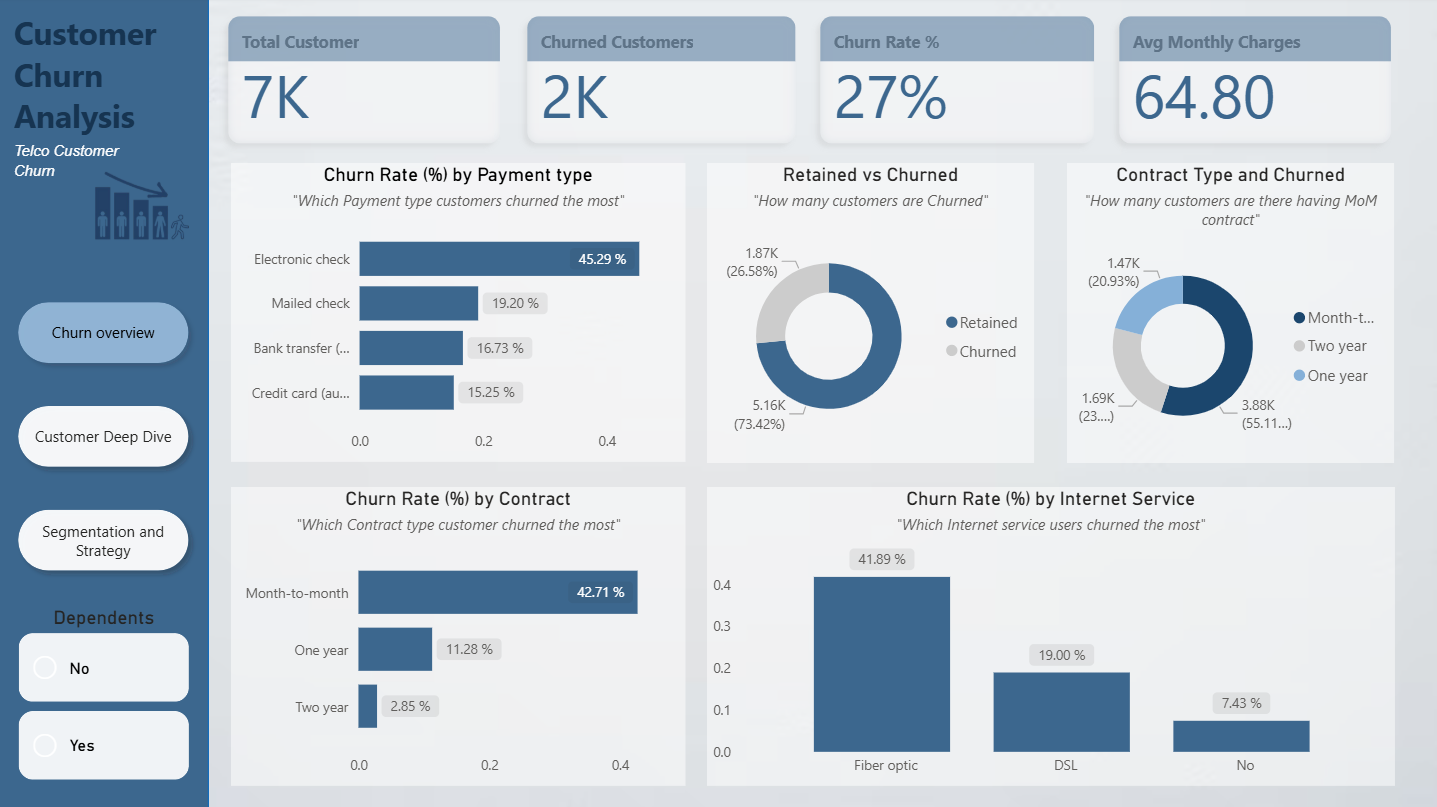

The dashboard page shown, as its layout file describes it:
{"tool":"powerbi","page":{"name":"Churn overview","canvas":[1280,720],"ordinal":0},"visuals":[{"type":"shape","box":[0,0,187,720.1],"z":0,"group":"g1"},{"type":"cardVisual","fields":{"Data":["telco_churn_final.Total Customer"]},"box":[187,0,275.3,147.5],"z":0},{"type":"cardVisual","fields":{"Data":["telco_churn_final.Churned Customers"]},"box":[451.8,0,273,147.5],"z":1000},{"type":"pageNavigator","box":[9.3,261.3,169.6,256.7],"z":1000,"group":"g1"},{"type":"cardVisual","fields":{"Data":["telco_churn_final.Churn Rate %"]},"box":[712,0,277.6,147.5],"z":2000},{"type":"cardVisual","fields":{"Data":["telco_churn_final.Avg Monthly Charges"]},"box":[976.8,0,275.3,147.5],"z":3000},{"type":"clusteredBarChart","title":"Churn Rate (%)  by Contract","fields":{"Category":["telco_churn_final.Contract"],"Y":["telco_churn_final.Churn Rate %"]},"box":[206.8,434.4,403,264.8],"z":4000},{"type":"clusteredBarChart","title":"Churn Rate (%)  by Payment type","fields":{"Y":["telco_churn_final.Churn Rate %"],"Category":["telco_churn_final.Payment Method"]},"box":[206.8,147.5,403,264.8],"z":5000},{"type":"lineClusteredColumnComboChart","title":"Churn Rate (%)  by Internet Service","fields":{"Category":["telco_churn_final.Internet Service"],"Y":["telco_churn_final.Churn Rate %"]},"box":[628.4,434.4,609.8,264.8],"z":6000},{"type":"donutChart","title":"Retained vs Churned","fields":{"Category":["telco_churn_final.Churn Label name"],"Y":["CountNonNull(telco_churn_final.CustomerID)"]},"box":[628.4,147.5,290,266],"z":7000},{"type":"group","id":"g1","title":"Group 1","box":[0,0,187,720.1],"z":8000},{"type":"textbox","title":"Customer Churn Analysis","box":[9.3,12.8,169.6,120.8],"z":9000},{"type":"donutChart","title":"Contract Type and Churned","fields":{"Y":["CountNonNull(telco_churn_final.CustomerID)"],"Category":["telco_churn_final.Contract"]},"box":[947.8,147.5,290.4,266],"z":10000},{"type":"image","box":[48.8,105.7,158,155.6],"z":11000},{"type":"textbox","box":[9.3,122,109.2,61.6],"z":12000},{"type":"advancedSlicerVisual","fields":{"Values":["telco_churn_final.Dependents"]},"box":[13.1,540.2,161.3,159.2],"z":13000}]}

Visuals, with their boxes in screenshot pixels (x1, y1, x2, y2), scaled from the page's 1280x720 canvas onto the 1437x807 screenshot:
shape: [0, 0, 210, 806]
cardVisual - telco_churn_final.Total Customer: [210, 0, 519, 165]
cardVisual - telco_churn_final.Churned Customers: [507, 0, 814, 165]
pageNavigator: [10, 293, 201, 581]
cardVisual - telco_churn_final.Churn Rate %: [799, 0, 1111, 165]
cardVisual - telco_churn_final.Avg Monthly Charges: [1097, 0, 1406, 165]
"Churn Rate (%)  by Contract" clusteredBarChart: [232, 487, 685, 784]
"Churn Rate (%)  by Payment type" clusteredBarChart: [232, 165, 685, 462]
"Churn Rate (%)  by Internet Service" lineClusteredColumnComboChart: [705, 487, 1390, 784]
"Retained vs Churned" donutChart: [705, 165, 1031, 463]
"Group 1" group: [0, 0, 210, 806]
"Customer Churn Analysis" textbox: [10, 14, 201, 150]
"Contract Type and Churned" donutChart: [1064, 165, 1390, 463]
image: [55, 118, 232, 293]
textbox: [10, 137, 133, 206]
advancedSlicerVisual - telco_churn_final.Dependents: [15, 605, 196, 784]
